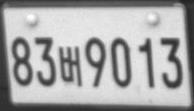0: (109, 36, 132, 88)
1: (136, 37, 159, 88)
3: (160, 36, 184, 89), (33, 36, 57, 86)
8: (11, 36, 34, 87)
9: (84, 36, 106, 87)
버: (58, 45, 83, 86)
